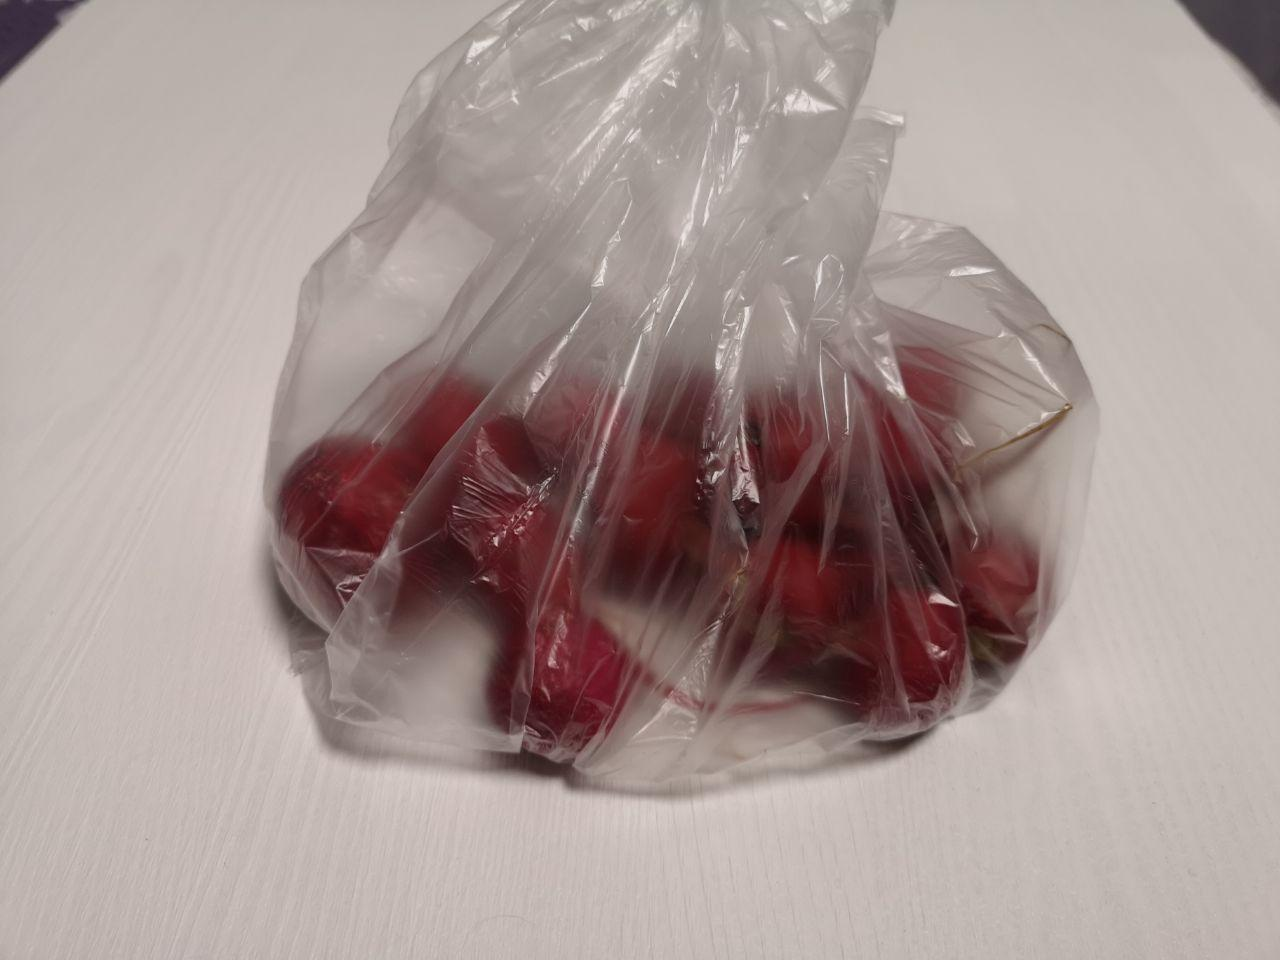redish: (222, 194, 1137, 813)
